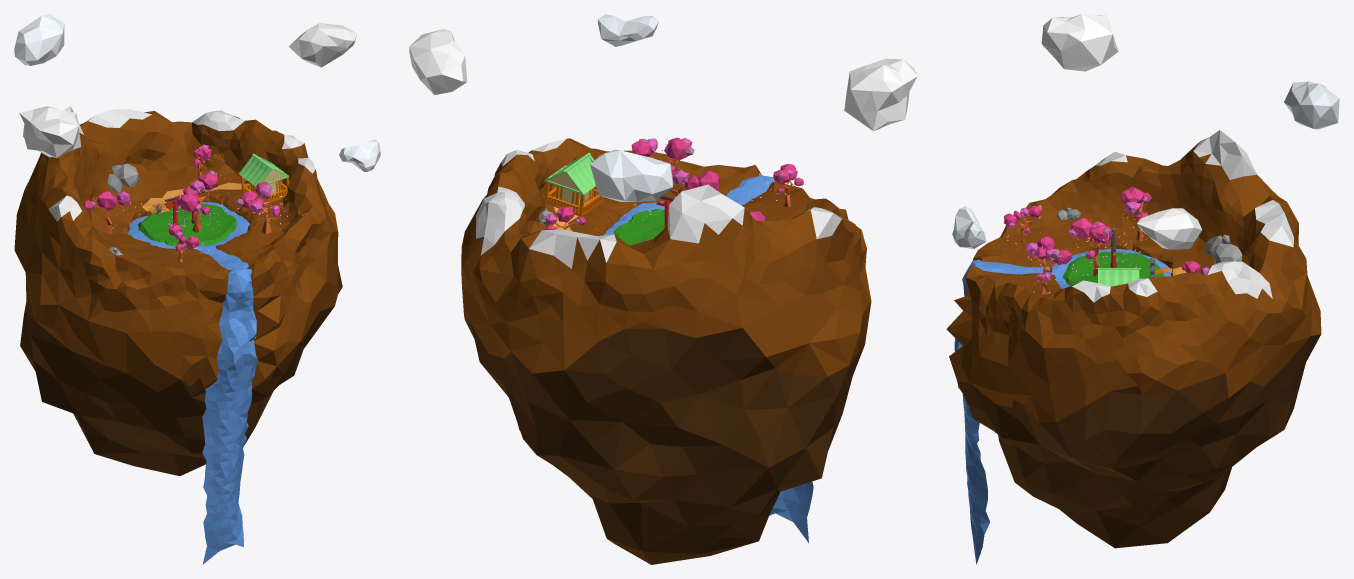
Rendered from low_poly_floating_island.glb.
The picture shows the model from 3 angles, left to right: view 1: azimuth 30°, elevation 25°; view 2: azimuth 150°, elevation 25°; view 3: azimuth 270°, elevation 25°; orthographic projection. The views are drawn at different scales.
Visible parts, largest first — view 1: Isla, Agua, Icosphere.001, Hojas, Icosphere, Icosphere.002, Casa, Hojas.001, Icosphere.003, Roca; view 2: Isla, Icosphere.001, Icosphere, Icosphere.002, Agua, Hojas, Icosphere.003, Casa, Hojas.001, Cube.001; view 3: Isla, Agua, Icosphere.001, Hojas, Icosphere, Icosphere.002, Icosphere.003, Hojas.001, Roca, Casa.
Part boxes in pixels (bbox=[...]): Isla: bbox=[14, 106, 342, 475]; Agua: bbox=[128, 202, 258, 564]; Icosphere.001: bbox=[19, 106, 81, 158]; Hojas: bbox=[83, 144, 280, 250]; Icosphere: bbox=[14, 14, 64, 65]; Icosphere.002: bbox=[289, 23, 356, 67]; Casa: bbox=[239, 153, 288, 186]; Hojas.001: bbox=[176, 170, 218, 214]; Icosphere.003: bbox=[339, 139, 380, 171]; Roca: bbox=[107, 163, 139, 192]; Isla: bbox=[461, 138, 871, 564]; Icosphere.001: bbox=[844, 58, 917, 131]; Icosphere: bbox=[590, 149, 673, 201]; Icosphere.002: bbox=[409, 29, 467, 94]; Agua: bbox=[604, 173, 813, 542]; Hojas: bbox=[545, 137, 803, 229]; Icosphere.003: bbox=[597, 14, 658, 46]; Casa: bbox=[544, 152, 595, 194]; Hojas.001: bbox=[664, 161, 719, 196]; Cube.001: bbox=[544, 182, 603, 216]; Isla: bbox=[946, 130, 1321, 548]; Agua: bbox=[954, 248, 1171, 564]; Icosphere.001: bbox=[1041, 14, 1118, 71]; Hojas: bbox=[1004, 186, 1209, 281]; Icosphere: bbox=[1284, 81, 1339, 129]; Icosphere.002: bbox=[1137, 208, 1201, 249]; Icosphere.003: bbox=[952, 206, 986, 248]; Hojas.001: bbox=[1068, 218, 1112, 259]; Roca: bbox=[1205, 234, 1241, 263]; Casa: bbox=[1096, 268, 1140, 286].
Bounding box in the file's own units: 1406 × 1665 × 1225.
